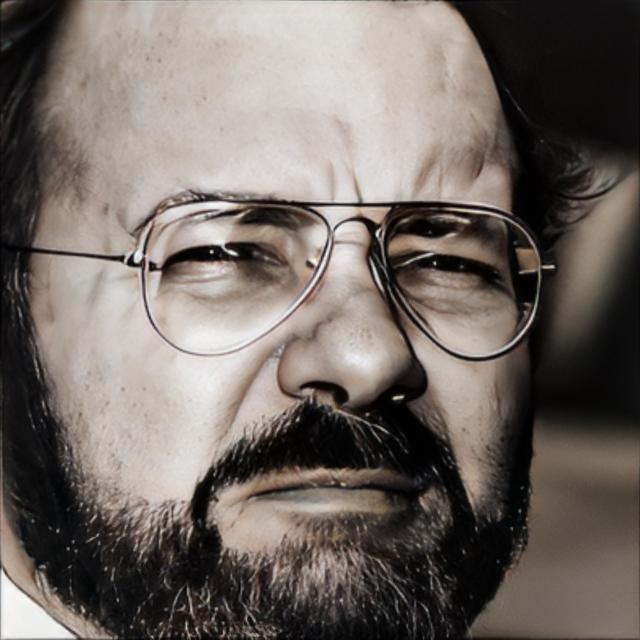anger: (123, 118, 542, 620)
